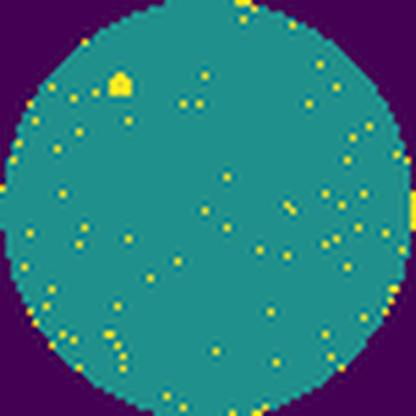Loc: (108, 70, 136, 99)
